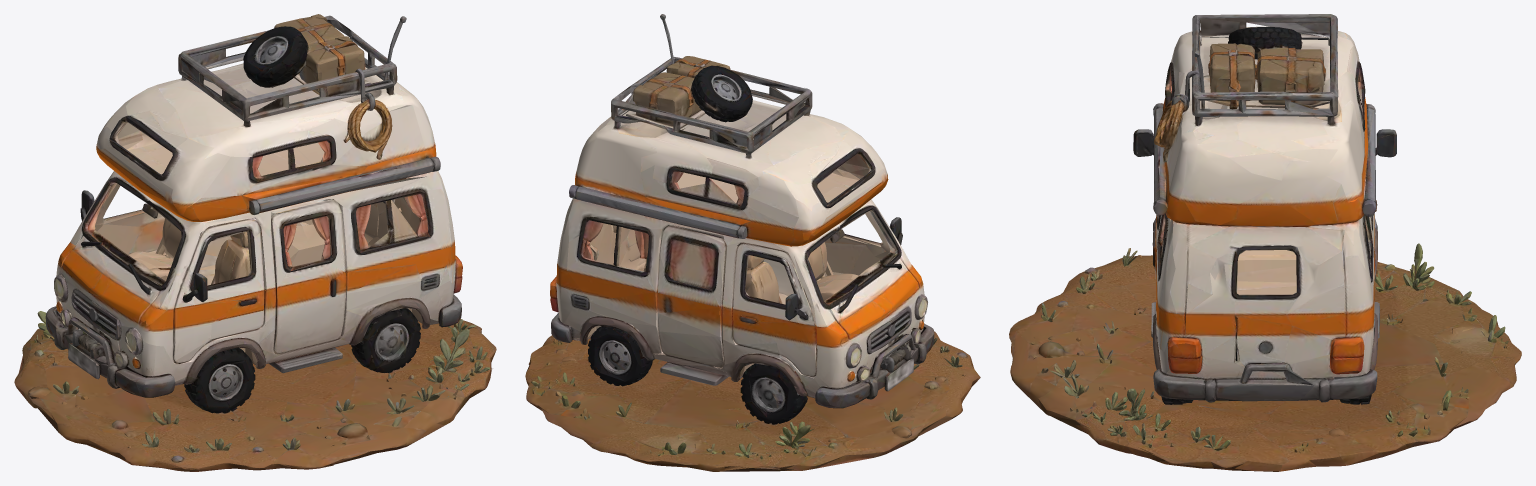
Rendered from storybook-van.glb.
3 renders of one model, left to right at view 1: azimuth 30°, elevation 25°; view 2: azimuth 150°, elevation 25°; view 3: azimuth 270°, elevation 25°, orthographic. The views are drawn at different scales.
Visible parts, largest first — view 1: Mesh_0; view 2: Mesh_0; view 3: Mesh_0.
Boxes of the visible parts, left/top/right/bottom form: Mesh_0: left=14, top=14, right=496, bottom=471; Mesh_0: left=525, top=14, right=980, bottom=471; Mesh_0: left=1009, top=14, right=1521, bottom=471.
Size of the model in its own units: 1.9 by 1.51 by 1.86.
Materials: 1 (1 with a texture image).
